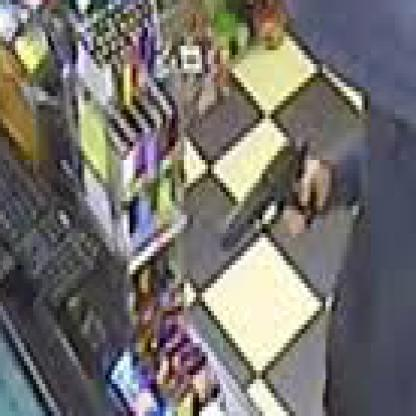gun: (205, 124, 323, 260)
